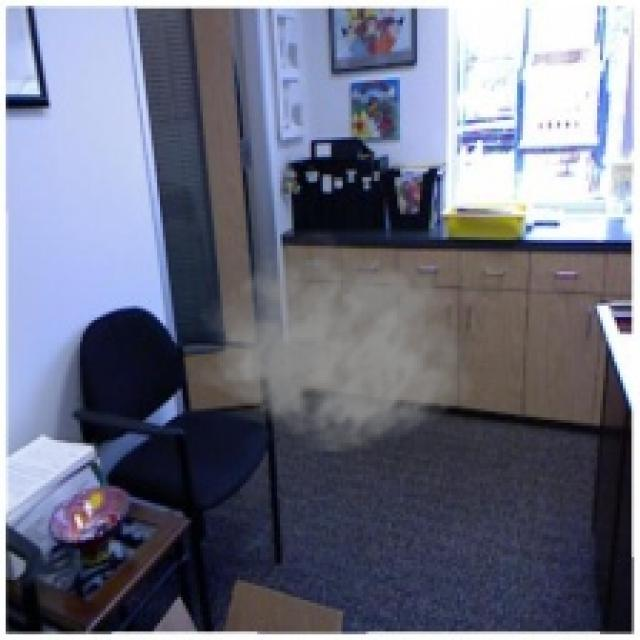smoke: (192, 229, 474, 454)
